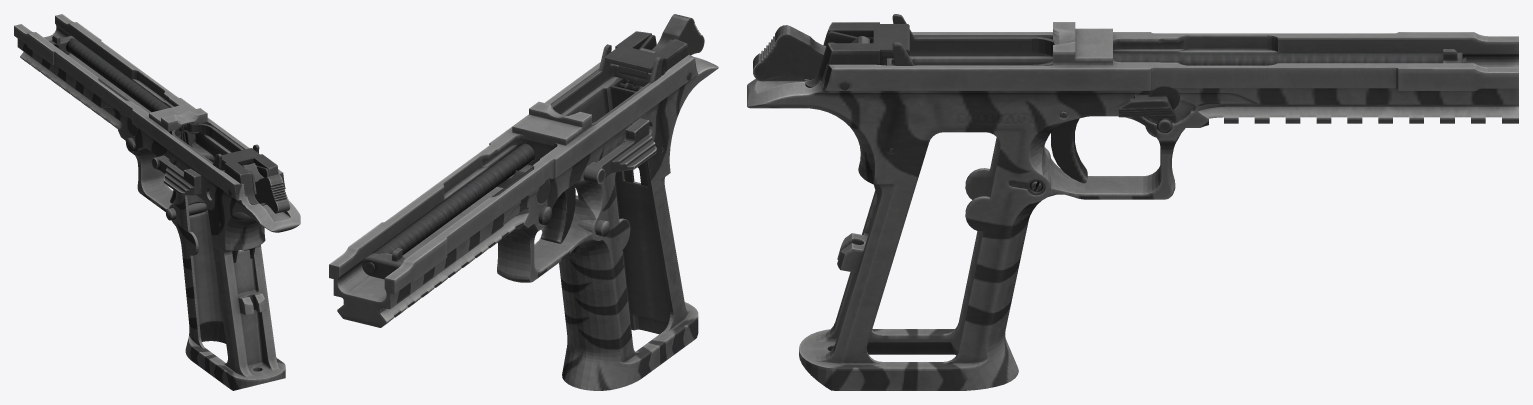
3 renders of one model, left to right at view 1: azimuth 30°, elevation 25°; view 2: azimuth 150°, elevation 25°; view 3: azimuth 270°, elevation 25°, orthographic. The views are drawn at different scales.
Parts seen in each view (by area): view 1: TW_669fa3d876116c89840b1217_PZ_Import; view 2: TW_669fa3d876116c89840b1217_PZ_Import; view 3: TW_669fa3d876116c89840b1217_PZ_Import.
Part boxes in pixels (x1,y1,x2,y2): TW_669fa3d876116c89840b1217_PZ_Import: (14, 14, 300, 390); TW_669fa3d876116c89840b1217_PZ_Import: (329, 14, 718, 390); TW_669fa3d876116c89840b1217_PZ_Import: (747, 14, 1518, 390).
Bounding box in the file's own units: 0.0214 × 0.1445 × 0.0706.
Materials: 1 (1 with a texture image).
